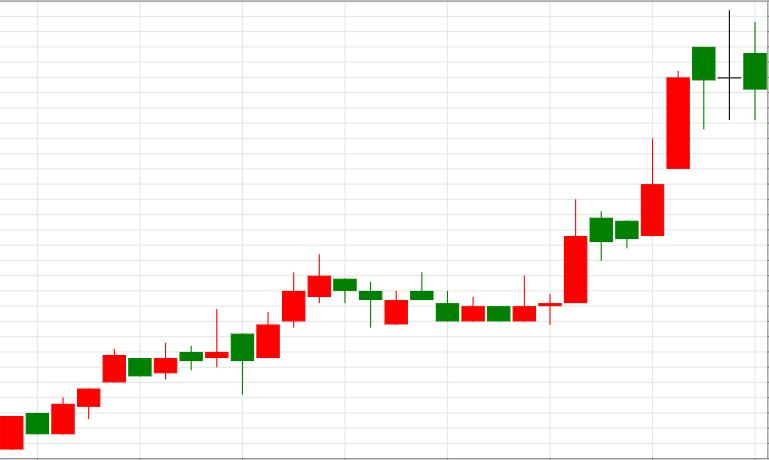hanging_man_fall: (512, 46, 716, 326)
